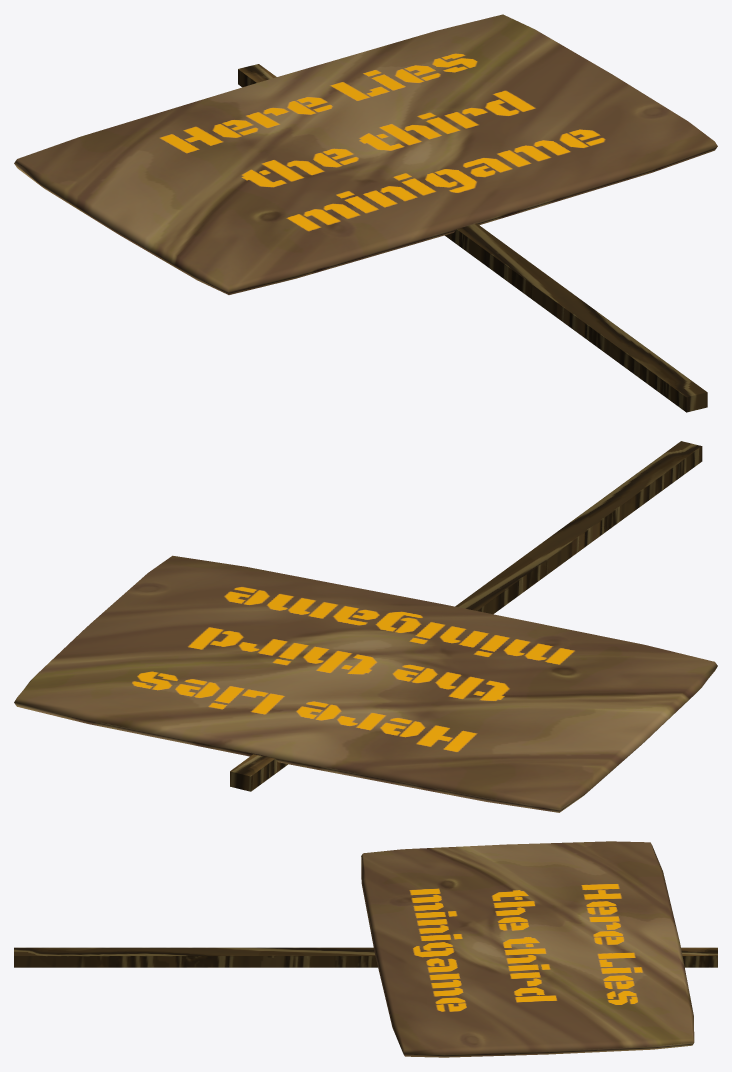
Rendered from Cartel.glb.
3 views of the same model, one above another, from view 1: azimuth 30°, elevation 25°; view 2: azimuth 150°, elevation 25°; view 3: azimuth 270°, elevation 25° (orthographic). The views are drawn at different scales.
Parts seen in each view (by area): view 1: pCube3, pCube2; view 2: pCube3, pCube2; view 3: pCube3, pCube2.
Part boxes in pixels (<box>): pCube3: <box>14,14,717,294</box>; pCube2: <box>238,64,707,412</box>; pCube3: <box>14,555,717,812</box>; pCube2: <box>230,441,702,791</box>; pCube3: <box>361,841,694,1057</box>; pCube2: <box>14,947,717,967</box>.
Size of the model in its own units: 0.0958 by 0.00502 by 0.1355.
2 materials, 2 textured.
